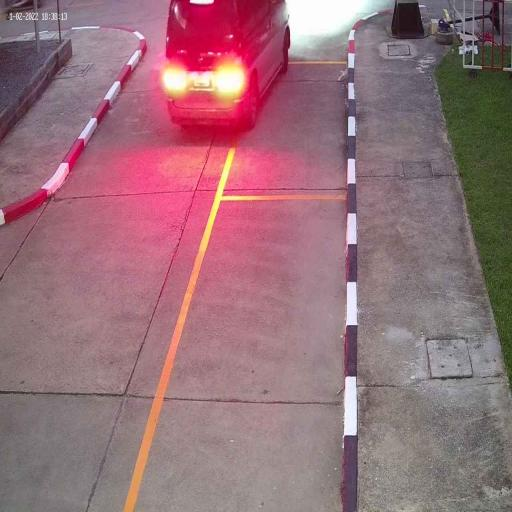car: (162, 0, 292, 130)
